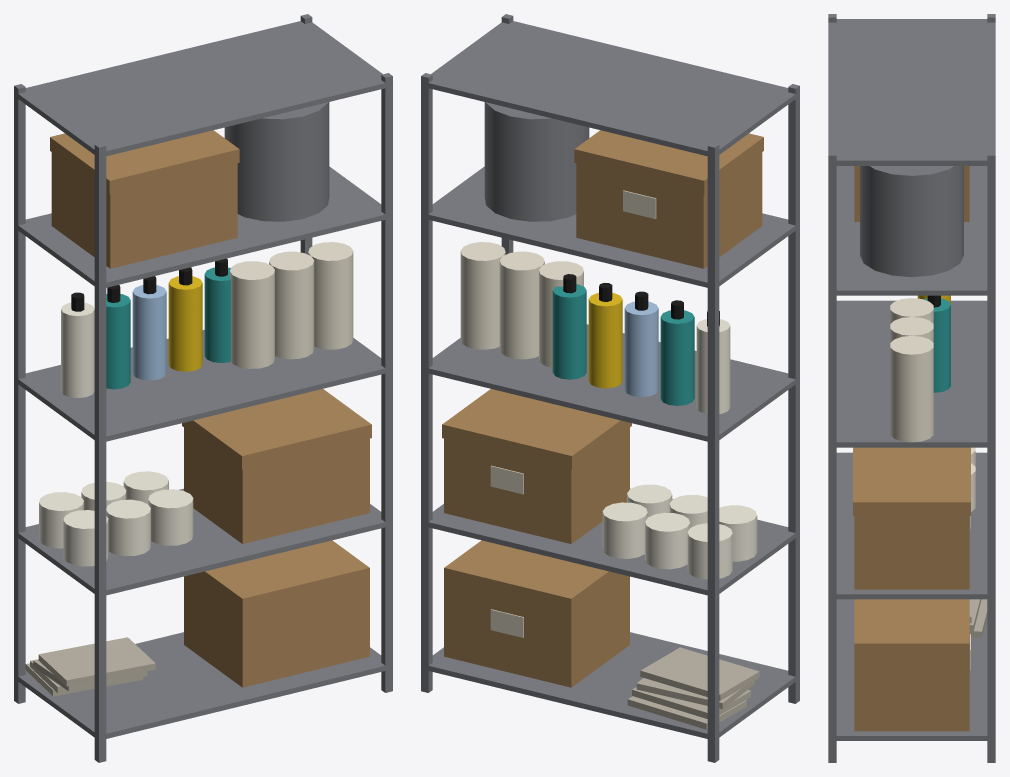
Rendered from SM_80s_MetalShelf.glb.
3 views of the same model, side by side, from view 1: azimuth 30°, elevation 25°; view 2: azimuth 150°, elevation 25°; view 3: azimuth 270°, elevation 25° (orthographic).
Visible parts, largest first — view 1: SM_80s_MetalShelf; view 2: SM_80s_MetalShelf; view 3: SM_80s_MetalShelf.
Boxes of the visible parts, box(x1,y1,x2,y2) form: SM_80s_MetalShelf: box(14, 14, 392, 762); SM_80s_MetalShelf: box(421, 14, 799, 762); SM_80s_MetalShelf: box(828, 14, 995, 762).
Bounding box in the file's own units: 1.19 × 2.38 × 0.594.
